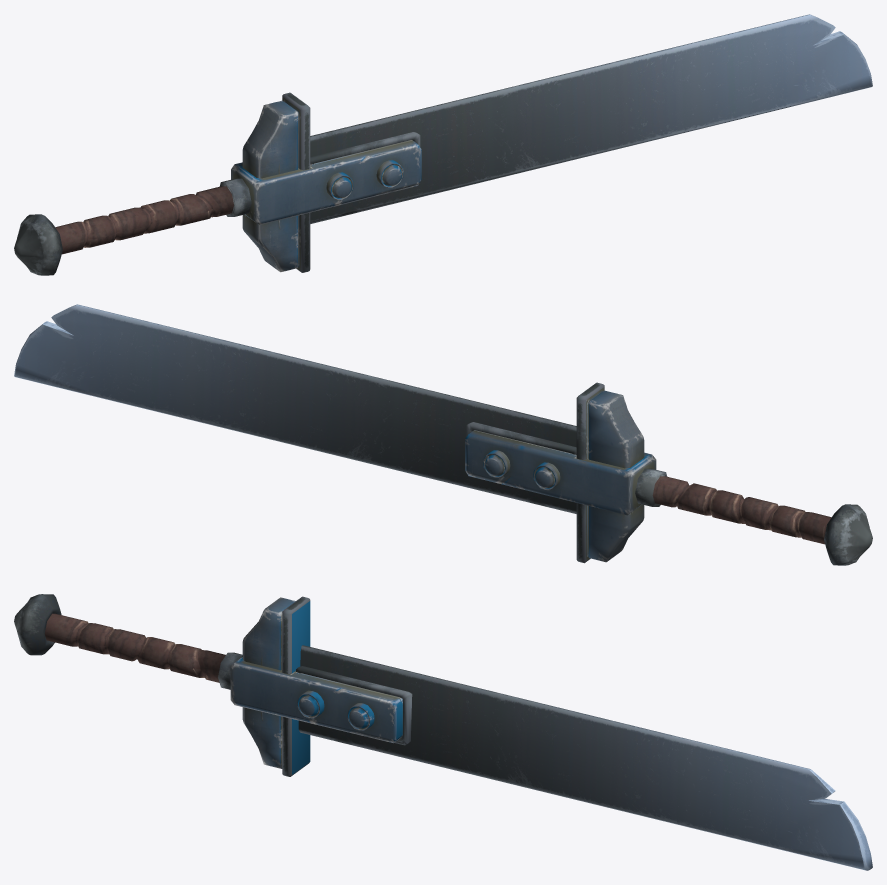
Rendered from NoviceKnight_Weapon.FBX.
3 renders of one model, top to bottom at view 1: azimuth 30°, elevation 25°; view 2: azimuth 150°, elevation 25°; view 3: azimuth 330°, elevation 25°, orthographic.
Visible parts, largest first — view 1: NoviceKnight_Weapon_SM; view 2: NoviceKnight_Weapon_SM; view 3: NoviceKnight_Weapon_SM.
Part boxes in pixels (x1,y1,x2,y2): NoviceKnight_Weapon_SM: (14,14,872,275); NoviceKnight_Weapon_SM: (14,304,872,565); NoviceKnight_Weapon_SM: (14,594,872,870).
Size of the model in its own units: 163 by 30.1 by 12.25.
